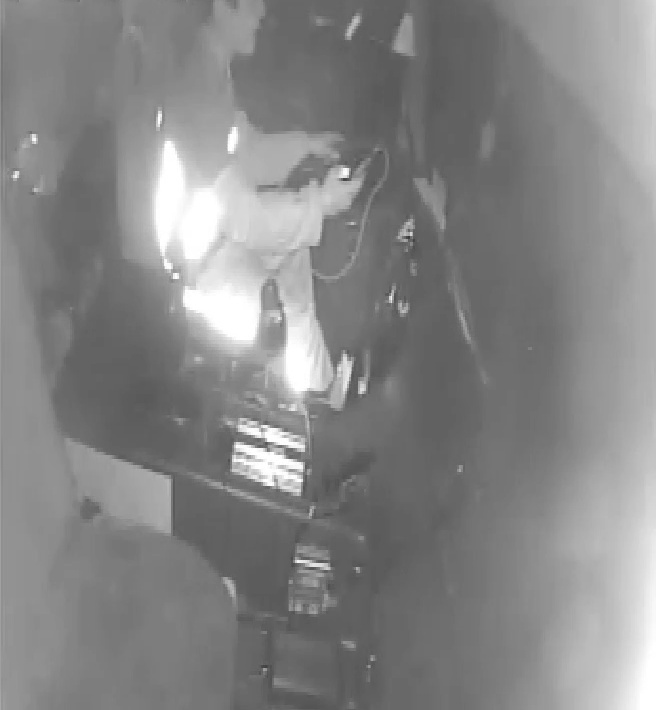cellphone: (324, 152, 375, 190)
